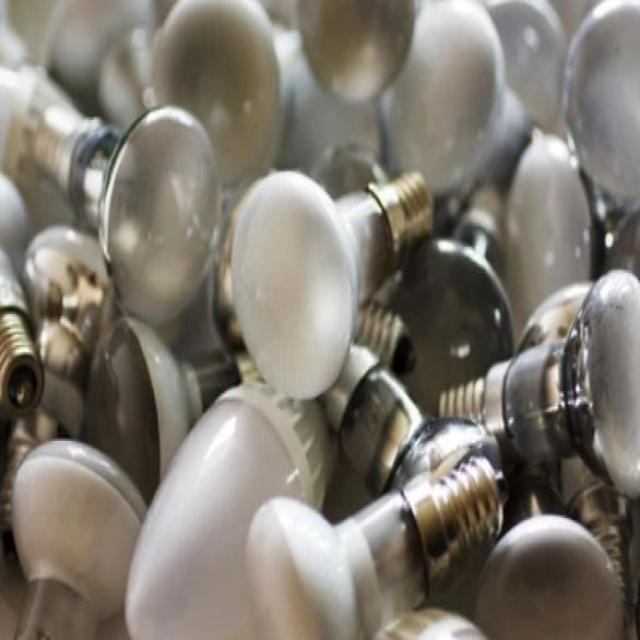electronic: (0, 0, 639, 638), (228, 166, 359, 400), (96, 102, 222, 324)
